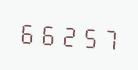five: (78, 20, 97, 51)
seven: (98, 22, 117, 53)
six: (38, 17, 57, 49), (18, 16, 37, 47)
two: (58, 19, 77, 50)
